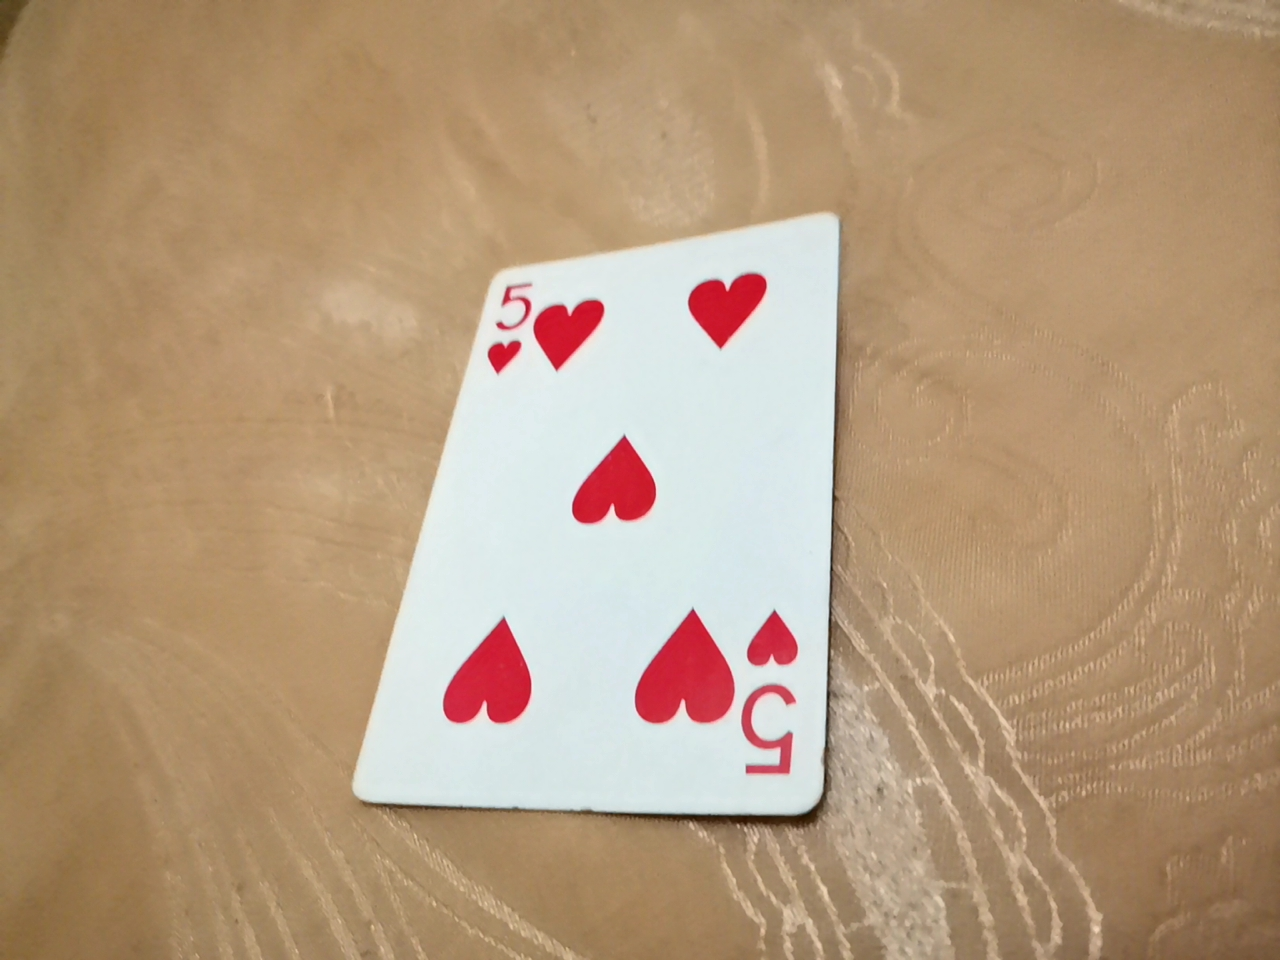hx 5: (455, 42, 906, 683)
